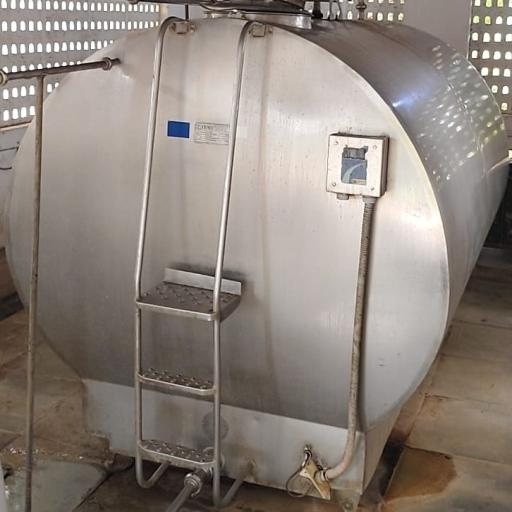silo: (1, 2, 510, 491)
